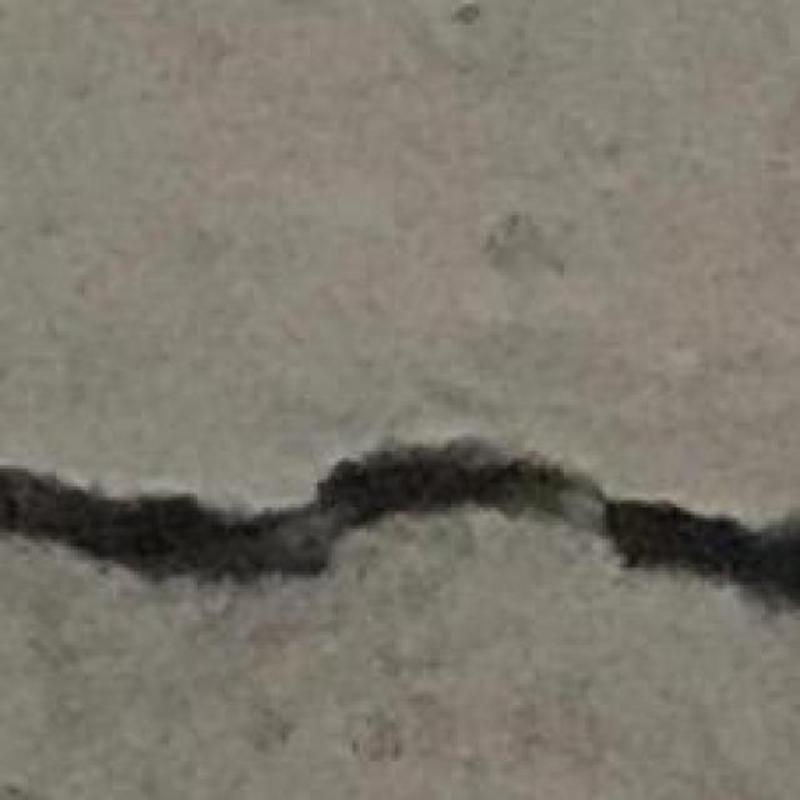crack: (0, 441, 799, 605)
